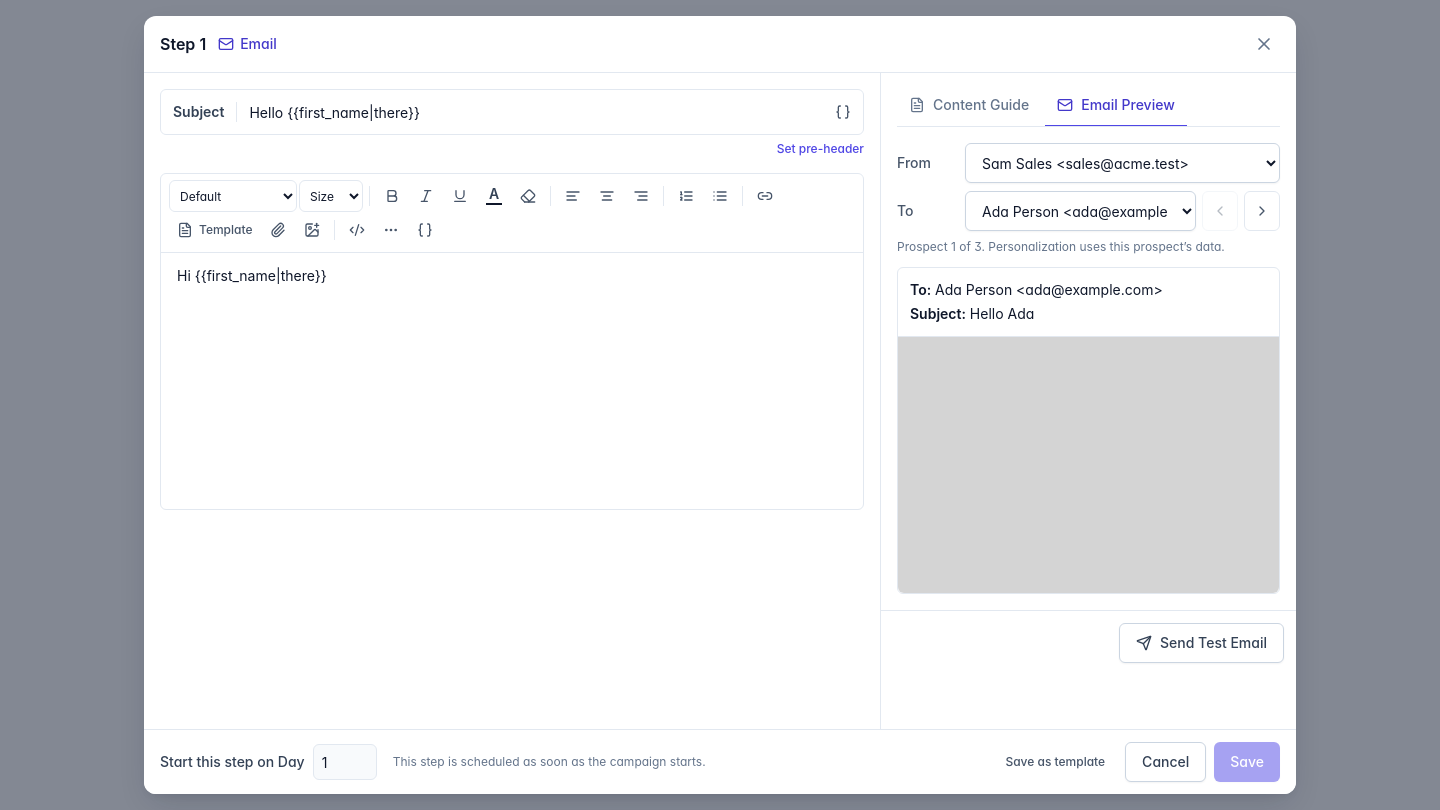
Test: preview prospects › navigates with next/previous and re-renders personalization
Check: the text "Hello Ada" is shown, box [970,305,1034,322]
Click the button named "next prospect". click: (1262, 211)
box: [1244,191,1280,231]
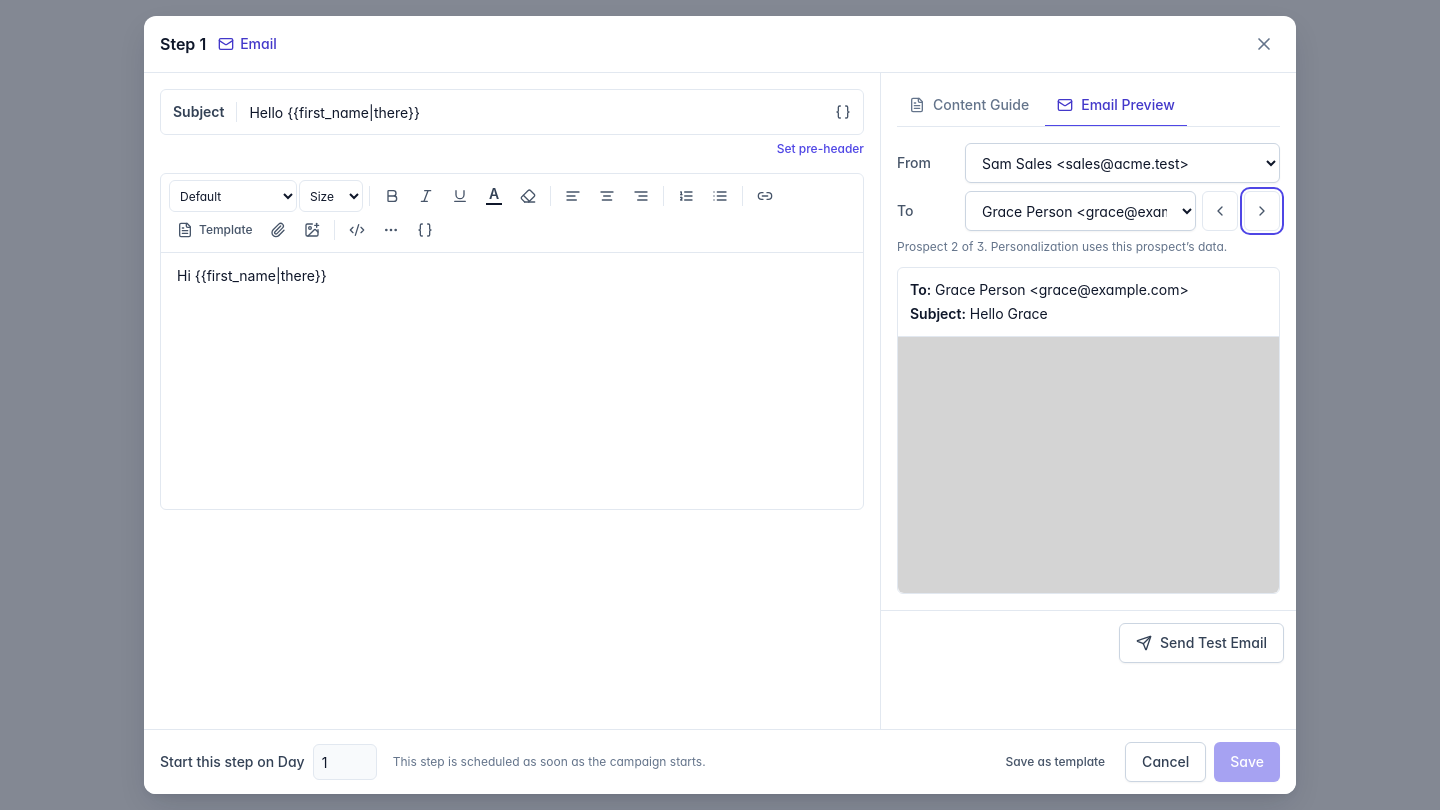
Check: the text "Hello Grace" is shown, box [970,305,1048,322]
Check: the text "Prospect 2 of 3. Personalization uses this prospect’s data." is shown, box [897,239,1280,255]
Click the button named "next prospect". click: (1262, 211)
box: [1244,191,1280,231]
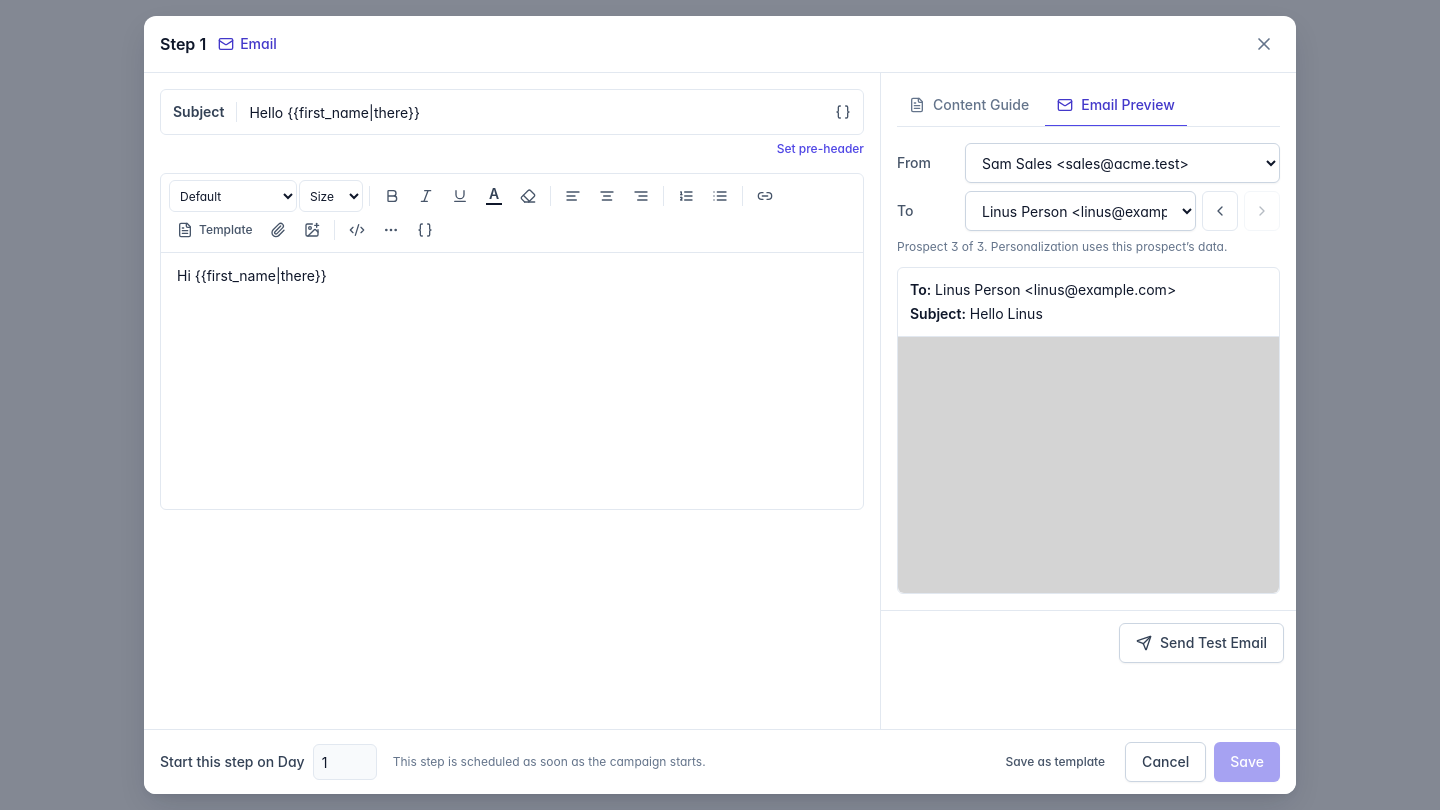
Check: the text "Hello Linus" is shown, box [970,305,1043,322]
Click the button named "previous prospect". click: (1220, 211)
box: [1202,191,1238,231]
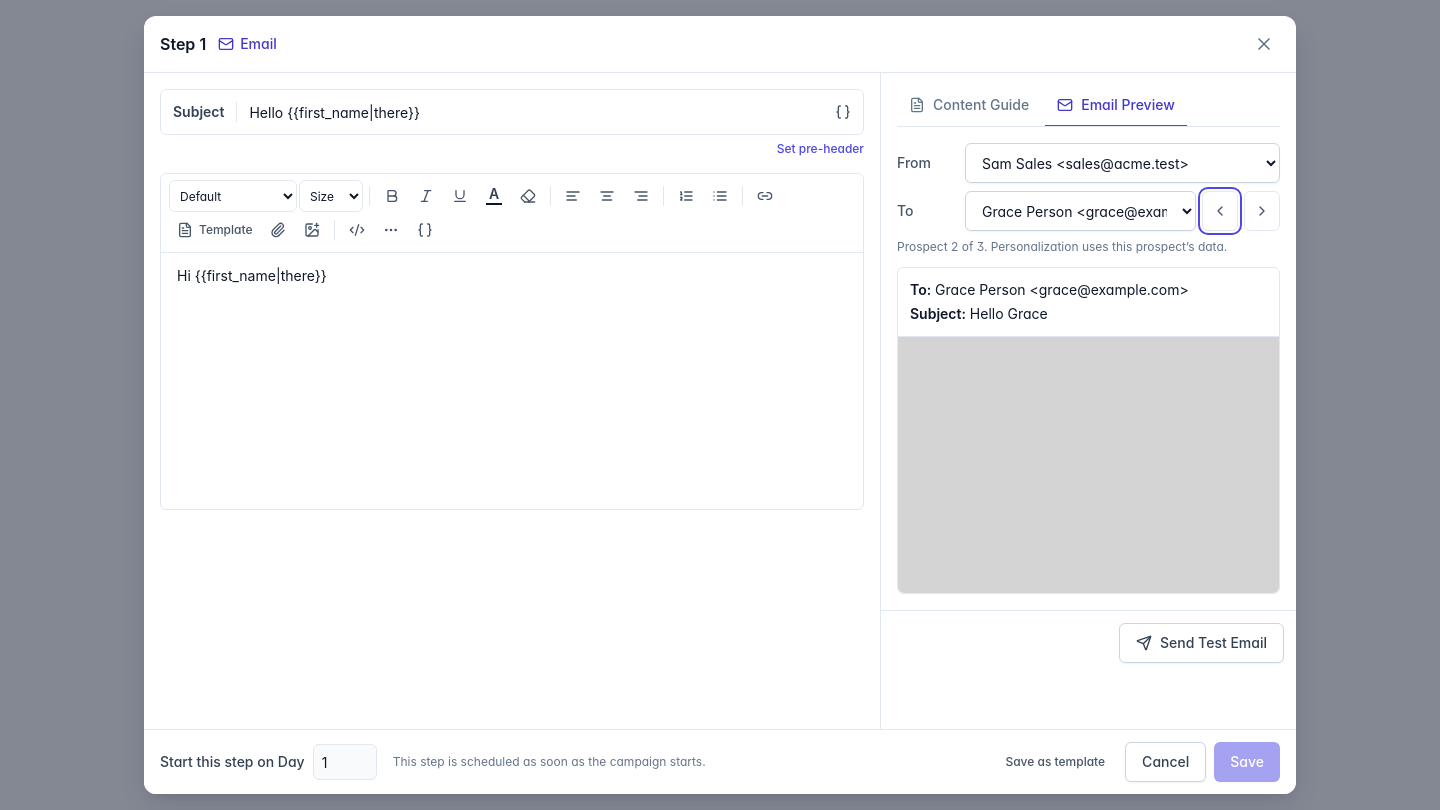
Check: the text "Hello Grace" is shown, box [970,305,1048,322]
